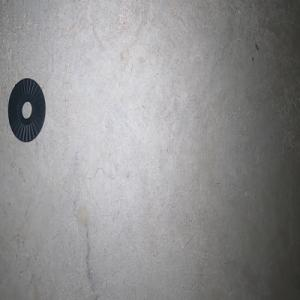Washer: (7, 78, 45, 142)
